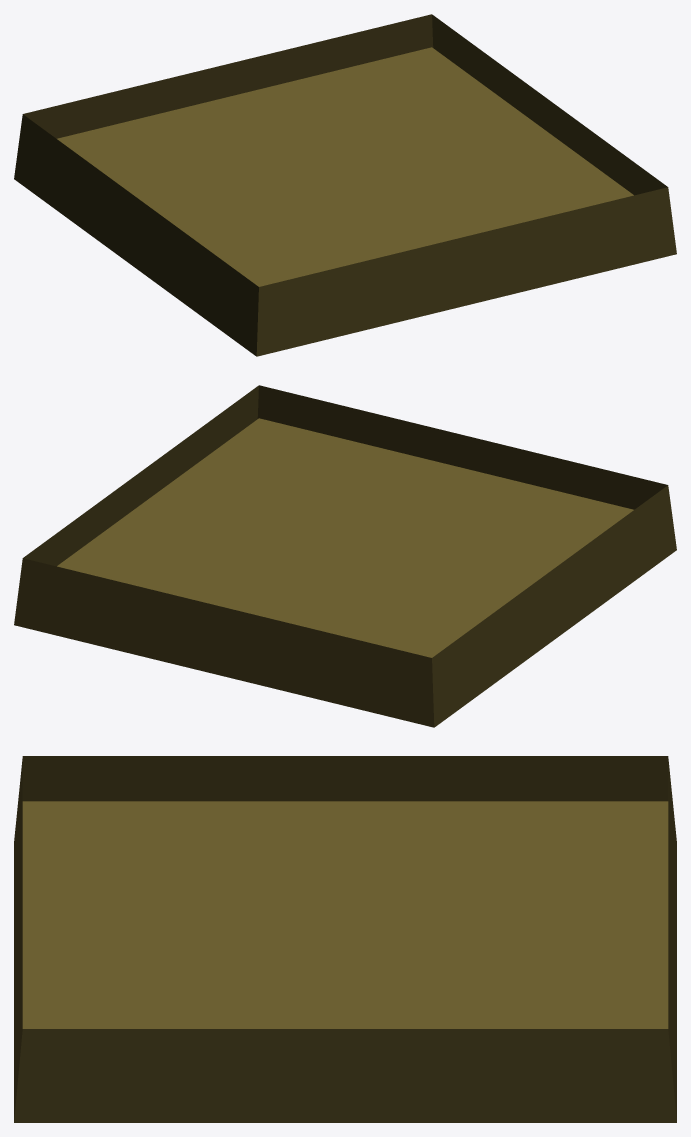
Rendered from garden_bed1.fbx.
3 views of the same model, one above another, from view 1: azimuth 30°, elevation 25°; view 2: azimuth 150°, elevation 25°; view 3: azimuth 270°, elevation 25° (orthographic). The views are drawn at different scales.
Visible parts, largest first — view 1: pCube2, pCube1; view 2: pCube2, pCube1; view 3: pCube2, pCube1.
Part boxes in pixels (x1,y1,x2,y2): pCube2: (57, 47, 633, 286); pCube1: (14, 14, 676, 356); pCube2: (57, 418, 633, 657); pCube1: (14, 385, 676, 727); pCube2: (22, 801, 668, 1028); pCube1: (14, 756, 676, 1122).
Size of the model in its own units: 0.1027 by 0.0154 by 0.1027.
